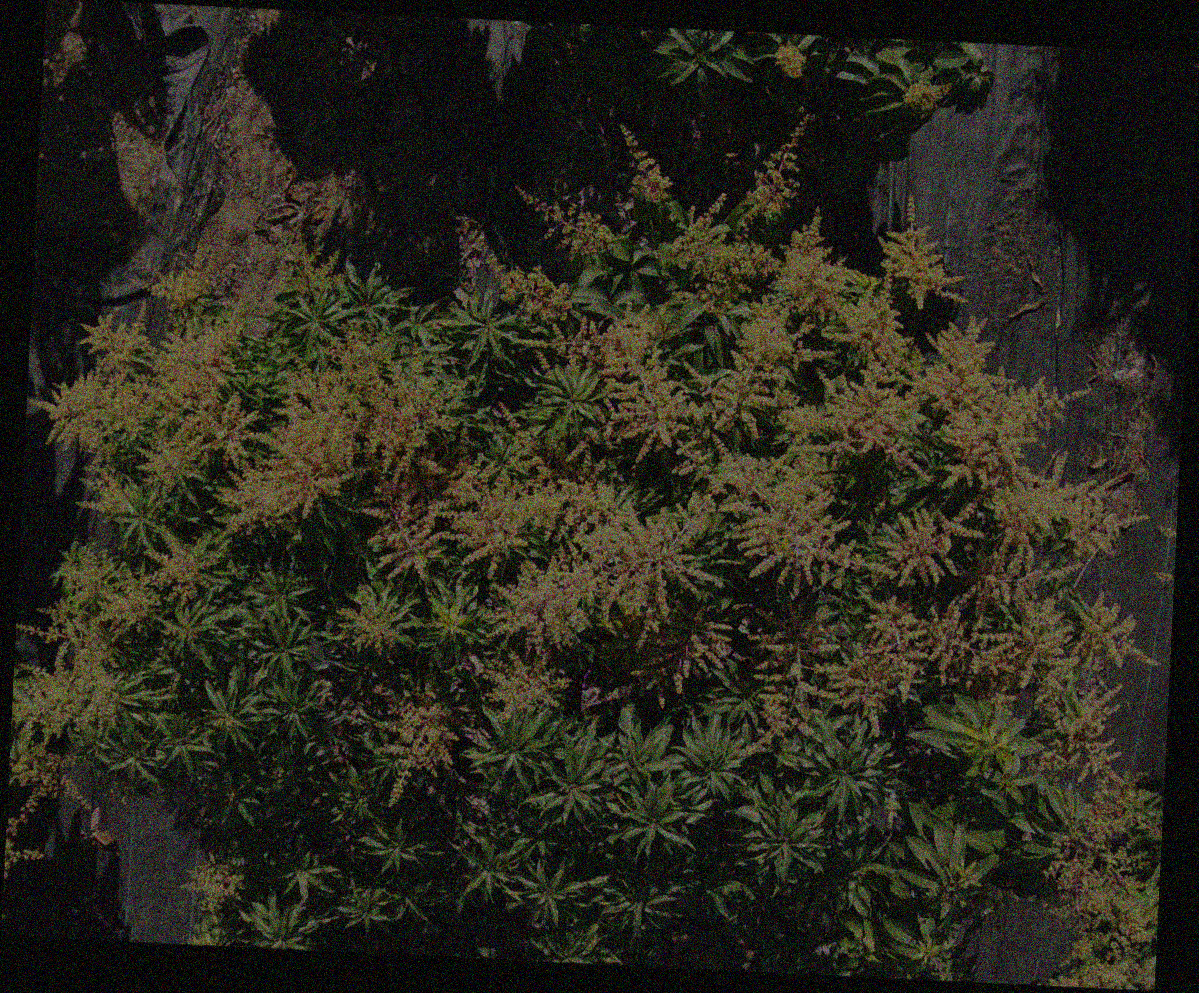flowers: (834, 477, 1138, 770), (633, 430, 874, 735), (223, 331, 493, 576), (42, 306, 292, 521), (451, 440, 694, 645), (790, 298, 1055, 484), (15, 534, 195, 742), (707, 225, 846, 435), (1048, 772, 1159, 988), (552, 314, 690, 459), (454, 219, 574, 322), (674, 197, 777, 312), (878, 195, 968, 310), (376, 684, 459, 774), (469, 650, 570, 722), (515, 188, 615, 259), (747, 113, 806, 222), (8, 742, 86, 802), (339, 585, 403, 653), (617, 127, 673, 202), (5, 788, 43, 879), (181, 856, 245, 910), (148, 269, 209, 310), (83, 460, 125, 519), (917, 917, 954, 980), (901, 82, 949, 119), (774, 43, 806, 78), (1156, 525, 1176, 539), (1153, 571, 1174, 584)
